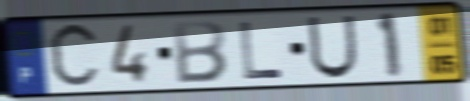1: (373, 10, 406, 81)
4: (110, 22, 152, 87)
B: (171, 18, 229, 85)
C: (45, 19, 103, 94)
L: (237, 20, 285, 81)
U: (305, 14, 359, 81)
